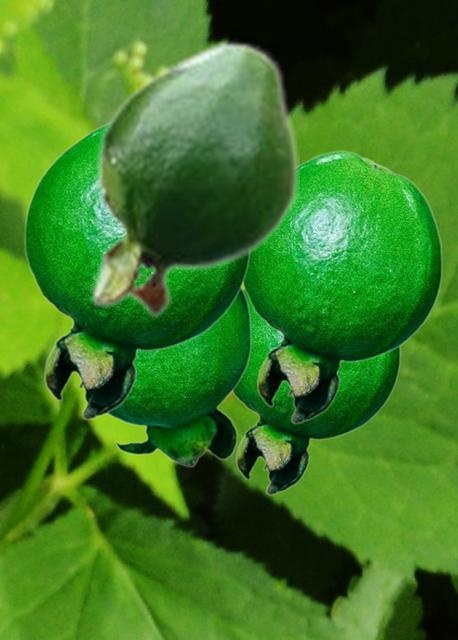guava: (23, 123, 250, 419), (90, 39, 298, 319), (243, 150, 442, 423), (232, 303, 400, 494), (71, 288, 251, 466)
